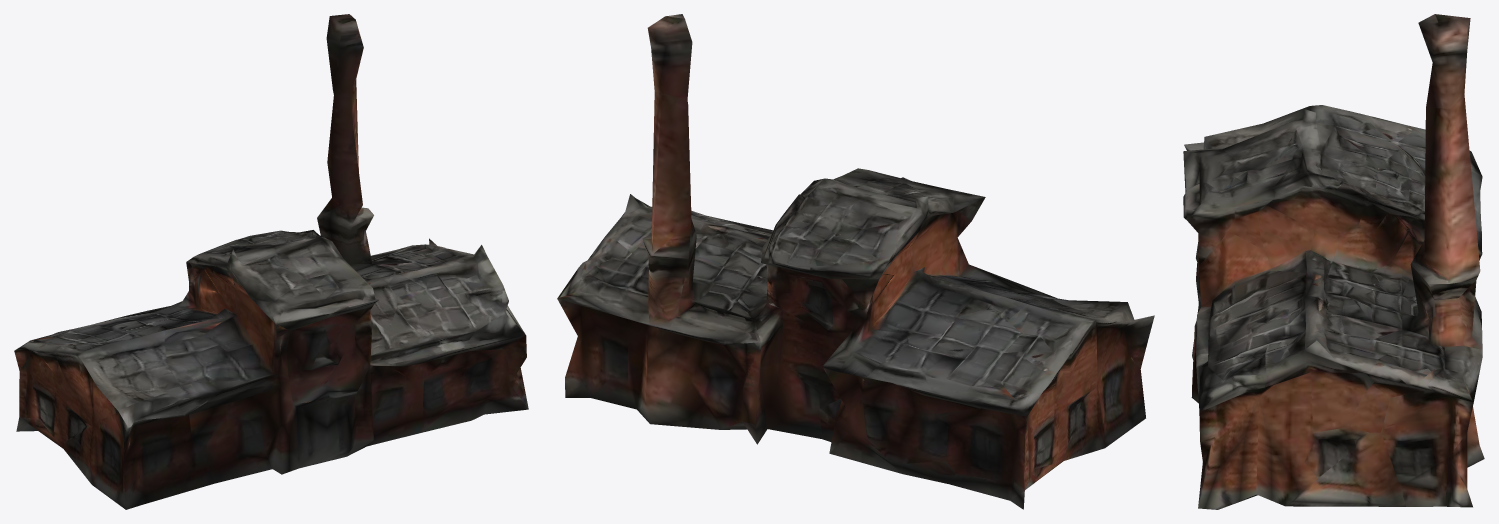
The model's file is p8factory.glb.
3 views of the same model, side by side, from view 1: azimuth 30°, elevation 25°; view 2: azimuth 150°, elevation 25°; view 3: azimuth 270°, elevation 25° (orthographic). The views are drawn at different scales.
Parts seen in each view (by area): view 1: tripo_node_5f546c01-a9eb-4646-9477-b6d438bd6031; view 2: tripo_node_5f546c01-a9eb-4646-9477-b6d438bd6031; view 3: tripo_node_5f546c01-a9eb-4646-9477-b6d438bd6031.
Boxes of the visible parts, <box> form: tripo_node_5f546c01-a9eb-4646-9477-b6d438bd6031: <box>14,14,528,509</box>; tripo_node_5f546c01-a9eb-4646-9477-b6d438bd6031: <box>557,14,1154,509</box>; tripo_node_5f546c01-a9eb-4646-9477-b6d438bd6031: <box>1183,14,1484,509</box>.
Bounding box in the file's own units: 0.9955 × 0.7921 × 0.4932.
Materials: 1 (1 with a texture image).
